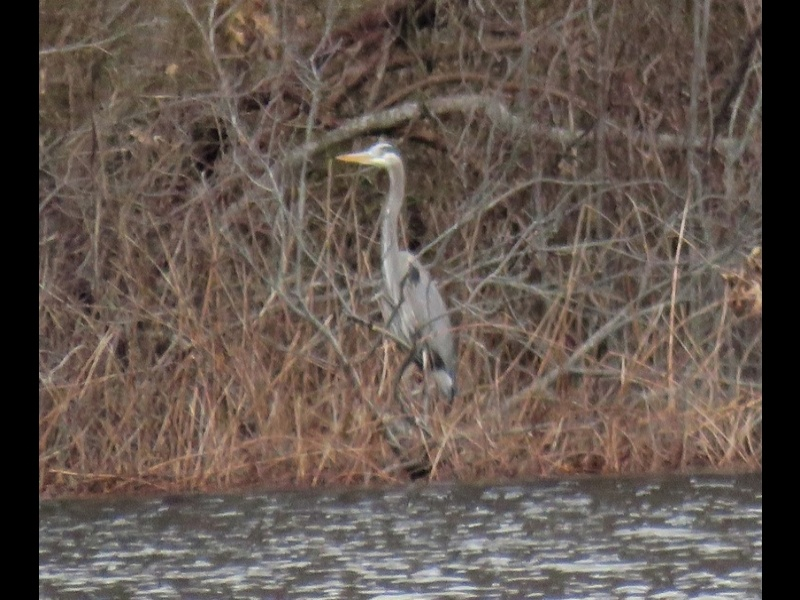heron: (334, 140, 465, 420)
